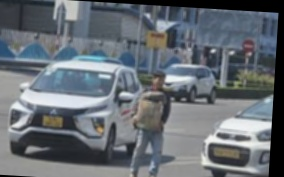Bien-so: (223, 135, 250, 144), (43, 111, 64, 122)
